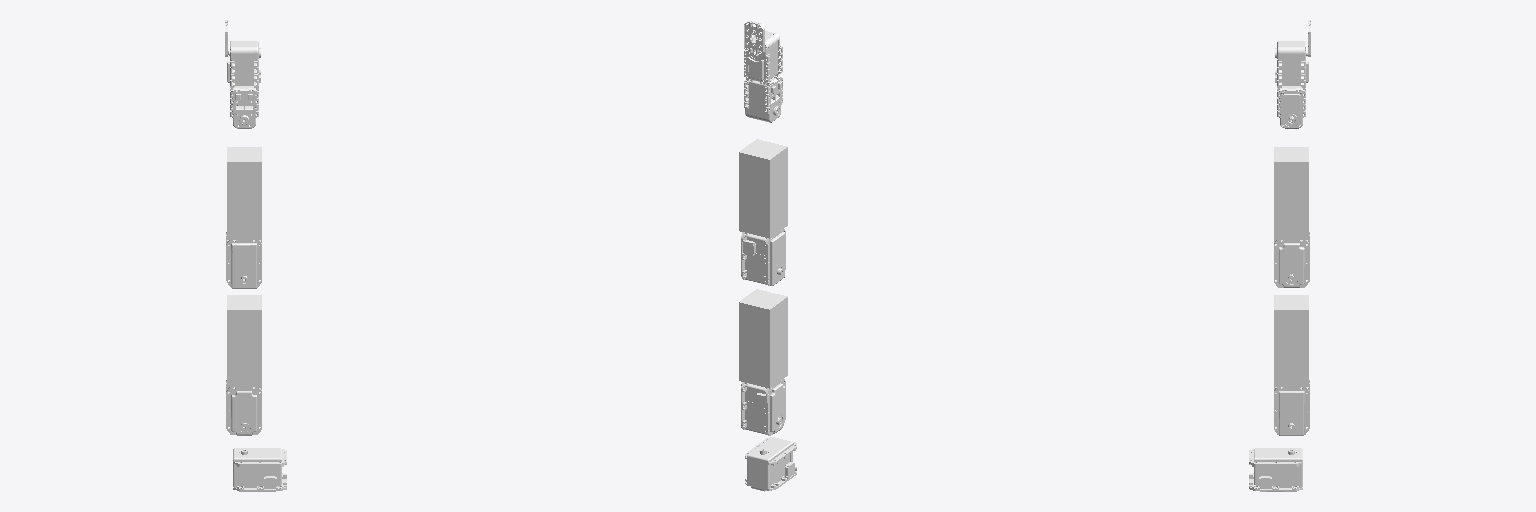
robot.urdf — mobile_manipulator:
<?xml version="1.0" ?>
<!-- =================================================================================== -->
<!-- |    This document was autogenerated by xacro from mobile_manipulator.xacro       | -->
<!-- |    EDITING THIS FILE BY HAND IS NOT RECOMMENDED                                 | -->
<!-- =================================================================================== -->
<robot name="mobile_manipulator" xmlns:xacro="http://www.ros.org/wiki/xacro">
  <material name="white">
    <color rgba="1 1 1 1"/>
  </material>
  <!-- MACROS -->
  <!-- LINKS -->
  <link name="shoulder_yaw_motor">
    <inertial>
      <origin rpy="0 0 0 " xyz="0 0 0"/>
      <mass value="0.140"/>
      <inertia ixx="0.000050799110" ixy="0.0" ixz="0.0" iyy="0.00002857215" iyz="0.00000051457" izz="0.000043394"/>
    </inertial>
    <visual>
      <origin rpy="0 0 0 " xyz="0 0 0"/>
      <geometry>
        <mesh filename="package://mobile_manipulator/meshes/dynamixel_x64series.stl" scale="0.001 0.001 0.001"/>
      </geometry>
      <material name="white"/>
    </visual>
    <collision>
      <origin rpy="0 0 0" xyz="0 0 0"/>
      <geometry>
        <box size="0.041 0.0402 0.0611"/>
      </geometry>
    </collision>
  </link>
  <link name="shoulder_bracket">
    <inertial>
      <origin rpy="0 3.14 0 " xyz="0 0 0.025"/>
      <mass value="0.00712"/>
      <inertia ixx="0.00000174511" ixy="0.0" ixz="0.0" iyy="0.00000379922" iyz="0.0" izz="0.00000357521"/>
    </inertial>
    <visual>
      <origin rpy="0 3.14 0 " xyz="0 0 0.025"/>
      <geometry>
        <mesh filename="package://mobile_manipulator/meshes/FR05-H101K.stl" scale="0.001 0.001 0.001"/>
      </geometry>
      <material name="white"/>
    </visual>
    <collision>
      <origin rpy="0 3.14 0 " xyz="0 0 0.025"/>
      <geometry>
        <mesh filename="package://mobile_manipulator/meshes/FR05-H101K.stl" scale="0.001 0.001 0.001"/>
      </geometry>
    </collision>
  </link>
  <link name="shoulder_pitch_motor">
    <inertial>
      <origin rpy="1.57 -3.14 1.57" xyz="0 0 0"/>
      <mass value="0.140"/>
      <inertia ixx="0.000050799110" ixy="0.0" ixz="0.0" iyy="0.00002857215" iyz="0.00000051457" izz="0.000043394"/>
    </inertial>
    <visual>
      <origin rpy="1.57 -3.14 1.57" xyz="0 0 0"/>
      <geometry>
        <mesh filename="package://mobile_manipulator/meshes/dynamixel_x64series.stl" scale="0.001 0.001 0.001"/>
      </geometry>
      <material name="white"/>
    </visual>
    <collision>
      <origin rpy="1.57 -3.14 1.57" xyz="0 0 0"/>
      <geometry>
        <box size="0.041 0.0402 0.0611"/>
      </geometry>
    </collision>
  </link>
  <link name="biscep">
    <inertial>
      <origin rpy="0 0 0" xyz="0 0 0.0961"/>
      <mass value="0.00048"/>
      <inertia ixx="0.000050799110" ixy="0.0" ixz="0.0" iyy="0.00002857215" iyz="0.00000051457" izz="0.000043394"/>
    </inertial>
    <visual>
      <origin rpy="0 0 0" xyz="0 0 0.0961"/>
      <geometry>
        <box size="0.04 0.04 0.096"/>
      </geometry>
      <material name="white"/>
    </visual>
    <collision>
      <origin rpy="0 0 0" xyz="0 0 0.0961"/>
      <geometry>
        <box size="0.04 0.04 0.096"/>
      </geometry>
    </collision>
  </link>
  <link name="elbow_bracket">
    <inertial>
      <origin rpy="0 3.14 0" xyz="0 0 0.1441"/>
      <mass value="0.00712"/>
      <inertia ixx="0.00000174511" ixy="0.0" ixz="0.0" iyy="0.00000379922" iyz="0.0" izz="0.00000357521"/>
    </inertial>
    <visual>
      <origin rpy="0 3.14 0" xyz="0 0 0.1441"/>
      <geometry>
        <mesh filename="package://mobile_manipulator/meshes/FR05-H101K.stl" scale="0.001 0.001 0.001"/>
      </geometry>
      <material name="white"/>
    </visual>
    <collision>
      <origin rpy="0 3.14 0" xyz="0 0 0.1441"/>
      <geometry>
        <mesh filename="package://mobile_manipulator/meshes/FR05-H101K.stl" scale="0.001 0.001 0.001"/>
      </geometry>
    </collision>
  </link>
  <link name="elbow_motor">
    <inertial>
      <origin rpy="1.57 0 0" xyz="0 0 0"/>
      <mass value="0.140"/>
      <inertia ixx="0.000050799110" ixy="0.0" ixz="0.0" iyy="0.00002857215" iyz="0.00000051457" izz="0.000043394"/>
    </inertial>
    <visual>
      <origin rpy="1.57 3.14 -1.57" xyz="0 0 0"/>
      <geometry>
        <mesh filename="package://mobile_manipulator/meshes/dynamixel_x64series.stl" scale="0.001 0.001 0.001"/>
      </geometry>
      <material name="white"/>
    </visual>
    <collision>
      <origin rpy="1.57 0 0" xyz="0 0 0"/>
      <geometry>
        <box size="0.041 0.0402 0.0611"/>
      </geometry>
    </collision>
  </link>
  <link name="forearm">
    <inertial>
      <origin rpy="0 0 0" xyz="0 0 0.0961"/>
      <mass value="0.00048"/>
      <inertia ixx="0.000050799110" ixy="0.0" ixz="0.0" iyy="0.00002857215" iyz="0.00000051457" izz="0.000043394"/>
    </inertial>
    <visual>
      <origin rpy="0 0 0" xyz="0 0 0.0961"/>
      <geometry>
        <box size="0.04 0.04 0.096"/>
      </geometry>
      <material name="white"/>
    </visual>
    <collision>
      <origin rpy="0 0 0" xyz="0 0 0.0961"/>
      <geometry>
        <box size="0.04 0.04 0.096"/>
      </geometry>
    </collision>
  </link>
  <link name="wrist_bracket">
    <inertial>
      <origin rpy="1.57 0 1.57" xyz="0 0 0.1948"/>
      <mass value="0.00712"/>
      <inertia ixx="0.00000174511" ixy="0.0" ixz="0.0" iyy="0.00000379922" iyz="0.0" izz="0.00000357521"/>
    </inertial>
    <visual>
      <origin rpy="1.57 0 1.57" xyz="0 0 0.1948"/>
      <geometry>
        <mesh filename="package://mobile_manipulator/meshes/F4.stl" scale="0.001 0.001 0.001"/>
      </geometry>
      <material name="white"/>
    </visual>
    <collision>
      <origin rpy="1.57 0 1.57" xyz="0 0 0.1948"/>
      <geometry>
        <mesh filename="package://mobile_manipulator/meshes/F4.stl" scale="0.001 0.001 0.001"/>
      </geometry>
    </collision>
  </link>
  <link name="wrist_pitch_motor">
    <inertial>
      <origin rpy="-1.57 0 -1.57" xyz="0 0 0"/>
      <mass value="0.05573"/>
      <inertia ixx="0.00001611154" ixy="0.00000001397" ixz="0.0" iyy="0.00000888743" iyz="0.00000015948" izz="0.00001354172"/>
    </inertial>
    <visual>
      <origin rpy="-1.57 0 -1.57" xyz="0. 0 0"/>
      <geometry>
        <mesh filename="package://mobile_manipulator/meshes/AX-12_18A - dynamixel_AXseries-1.stl" scale="0.001 0.001 0.001"/>
      </geometry>
      <material name="white"/>
    </visual>
    <collision>
      <origin rpy="-1.57 0 -1.57" xyz="0 0 0"/>
      <geometry>
        <box size="0.032 0.04 0.05"/>
      </geometry>
    </collision>
  </link>
  <link name="wrist_roll_motor">
    <inertial>
      <origin rpy="-1.57 3.14 0" xyz="0 0.035 0.027"/>
      <mass value="0.05573"/>
      <inertia ixx="0.00001611154" ixy="0.00000001397" ixz="0.0" iyy="0.00000888743" iyz="0.00000015948" izz="0.00001354172"/>
    </inertial>
    <visual>
      <origin rpy="-1.57 3.14 0" xyz="0 0 0.075"/>
      <geometry>
        <mesh filename="package://mobile_manipulator/meshes/AX-12_18A - dynamixel_AXseries-1.stl" scale="0.001 0.001 0.001"/>
      </geometry>
      <material name="white"/>
    </visual>
    <collision>
      <origin rpy="-1.57 3.14 0" xyz="0 0.035 0.027"/>
      <geometry>
        <box size="0.032 0.04 0.05"/>
      </geometry>
    </collision>
  </link>
  <!--trans="0 0.015 0.0585" trans1="0 0.035 0.027" rpy="-1.57 0 0"-->
  <!-- 
 <link name="end_effector">
    <xacro:BracketInertial trans="0 0 0" rpy="3.14 0 1.57"/>
    <xacro:BracketVisual trans="0 0 0" rpy="3.14 0 -1.57"/>
    <xacro:BracketCollision trans="0 0 0" rpy="3.14 0 1.57"/>
  </link>
   -->
  <link name="end_effector">
    <inertial>
      <origin rpy="1.57 1.57 1.57" xyz="0 0.040 -0.016"/>
      <mass value="0.00712"/>
      <inertia ixx="0.00000174511" ixy="0.0" ixz="0.0" iyy="0.00000379922" iyz="0.0" izz="0.00000357521"/>
    </inertial>
    <visual>
      <origin rpy="1.57 1.57 1.57" xyz="0 0.005 -0.016"/>
      <geometry>
        <mesh filename="package://mobile_manipulator/meshes/F10.stl" scale="0.001 0.001 0.001"/>
      </geometry>
      <material name="white"/>
    </visual>
    <collision>
      <origin rpy="1.57 1.57 1.57" xyz="0 0.040 -0.016"/>
      <geometry>
        <mesh filename="package://mobile_manipulator/meshes/F10.stl" scale="0.001 0.001 0.001"/>
      </geometry>
    </collision>
  </link>
  <!--trans="0 0.015 0" rpy="1.57 0 1.57"-->
  <joint name="shoulder_yaw" type="revolute">
    <origin rpy="0 0 0" xyz="0 0 0"/>
    <parent link="shoulder_yaw_motor"/>
    <child link="shoulder_bracket"/>
    <axis xyz="0 0 1"/>
    <limit effort="30" lower="-3.0357" upper="3.24426" velocity="1.0"/>
  </joint>
  <joint name="shoulder_pitch" type="revolute">
    <origin rpy="0 0 0" xyz="0 0 0.0636"/>
    <parent link="shoulder_bracket"/>
    <child link="shoulder_pitch_motor"/>
    <axis xyz="1 0 0"/>
    <limit effort="30" lower="-1.973232422" upper="1.916503906" velocity="1.0"/>
  </joint>
  <joint name="s1_l2" type="fixed">
    <parent link="shoulder_pitch_motor"/>
    <child link="biscep"/>
  </joint>
  <joint name="l2_l2B" type="fixed">
    <parent link="biscep"/>
    <child link="elbow_bracket"/>
  </joint>
  <joint name="elbow" type="revolute">
    <origin rpy="0 0 0" xyz="0 0 0.1827"/>
    <parent link="elbow_bracket"/>
    <child link="elbow_motor"/>
    <axis xyz="1 0 0"/>
    <limit effort="30" lower="-1.99" upper="1.971699219" velocity="1.0"/>
  </joint>
  <joint name="e_l3" type="fixed">
    <parent link="elbow_motor"/>
    <child link="forearm"/>
  </joint>
  <joint name="l3_l3B" type="fixed">
    <parent link="forearm"/>
    <child link="wrist_bracket"/>
  </joint>
  <joint name="wrist_pitch" type="revolute">
    <origin rpy="0 0 0" xyz="0 0 0.1948"/>
    <parent link="wrist_bracket"/>
    <child link="wrist_pitch_motor"/>
    <axis xyz="1 0 0"/>
    <limit effort="30" lower="-2.36344086" upper="2.368556533" velocity="1.0"/>
  </joint>
  <joint name="WP_WR" type="fixed">
    <parent link="wrist_pitch_motor"/>
    <child link="wrist_roll_motor"/>
  </joint>
  <joint name="wrist_roll" type="revolute">
    <origin rpy="0 3.14 0" xyz="0 0.015 0.077"/>
    <parent link="wrist_roll_motor"/>
    <child link="end_effector"/>
    <axis xyz="0 1 0"/>
    <limit effort="30" lower="-3.14" upper="+3.14" velocity="1.0"/>
  </joint>
  <!-- <xacro:Revjoint id="wrist_roll" trans="0 0.015 0.0785" rpy="0 0 0" parent="wrist_roll_motor" child="end_effector" axis="0 0 1" l="-2.616666666" u="2.616666666" v="1.0"/> -->
</robot>

--- What the picture shows (computed from the rendered views, not written in the file) ---
3 views of the same robot in one strip: view 1: azimuth 90°, elevation 25°; view 2: azimuth 150°, elevation 25°; view 3: azimuth 270°, elevation 25° (orthographic).
Robot: mobile_manipulator — 11 links, 10 joints (5 revolute, 5 fixed); root link shoulder_yaw_motor; default pose: all joints at 0.
Links seen in each view (by area): view 1: forearm, biscep, shoulder_yaw_motor, elbow_motor, shoulder_pitch_motor, wrist_roll_motor, wrist_pitch_motor; view 2: biscep, forearm, shoulder_yaw_motor, elbow_motor, shoulder_pitch_motor, wrist_pitch_motor, wrist_roll_motor, end_effector; view 3: forearm, biscep, shoulder_yaw_motor, shoulder_pitch_motor, elbow_motor, wrist_roll_motor, wrist_pitch_motor.
Link boxes in pixels (x1,y1,x2,y2): forearm: [227, 147, 261, 239]; biscep: [227, 295, 261, 386]; shoulder_yaw_motor: [233, 448, 286, 491]; elbow_motor: [226, 232, 261, 288]; shoulder_pitch_motor: [226, 380, 261, 435]; wrist_roll_motor: [227, 41, 260, 88]; wrist_pitch_motor: [230, 86, 258, 128]; biscep: [739, 289, 787, 388]; forearm: [739, 139, 787, 238]; shoulder_yaw_motor: [745, 437, 796, 491]; elbow_motor: [741, 229, 785, 285]; shoulder_pitch_motor: [741, 379, 785, 435]; wrist_pitch_motor: [744, 75, 782, 122]; wrist_roll_motor: [744, 31, 782, 84]; end_effector: [744, 21, 764, 55]; forearm: [1274, 147, 1308, 239]; biscep: [1274, 295, 1308, 386]; shoulder_yaw_motor: [1249, 448, 1302, 491]; shoulder_pitch_motor: [1274, 380, 1309, 435]; elbow_motor: [1274, 232, 1309, 287]; wrist_roll_motor: [1275, 41, 1308, 88]; wrist_pitch_motor: [1277, 86, 1305, 128].
Bounding box of the posed robot: 0.0482 × 0.0701 × 0.5751 m (x, y, z).
Meshes: 5 distinct files referenced, 6 mesh visuals loaded (3 binary STL); not drawn: 3 (reference not matched to a file when rendering).